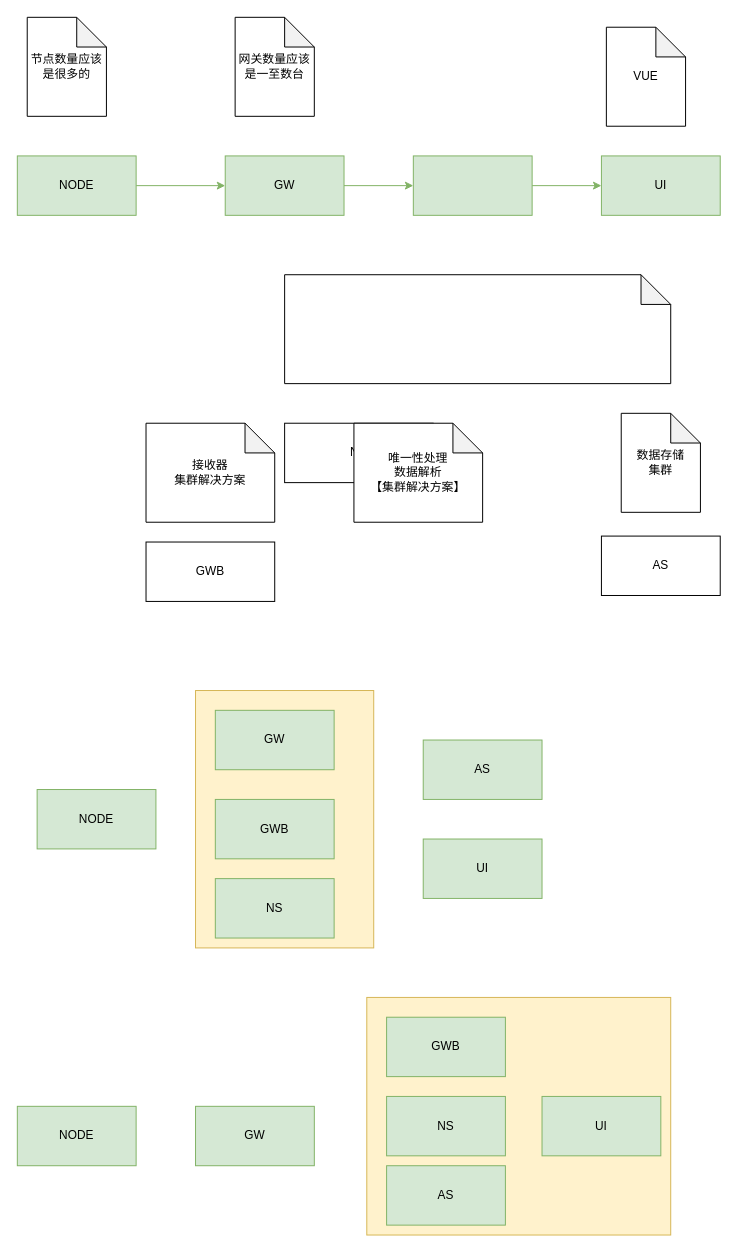
Image size: 738x1252. Some labels were removed from this diagram. The centre of each missing label's shape, as x and y in pixels:
"LoRa Server" belongs at (x=472, y=185).
"接收上行信息：可以考虑负载均衡，小规模不考虑 数据有上行下行要求 上行有时间要求 上行有高并发要求 上下行有时间冲突解决要求" belongs at (x=477, y=329).
